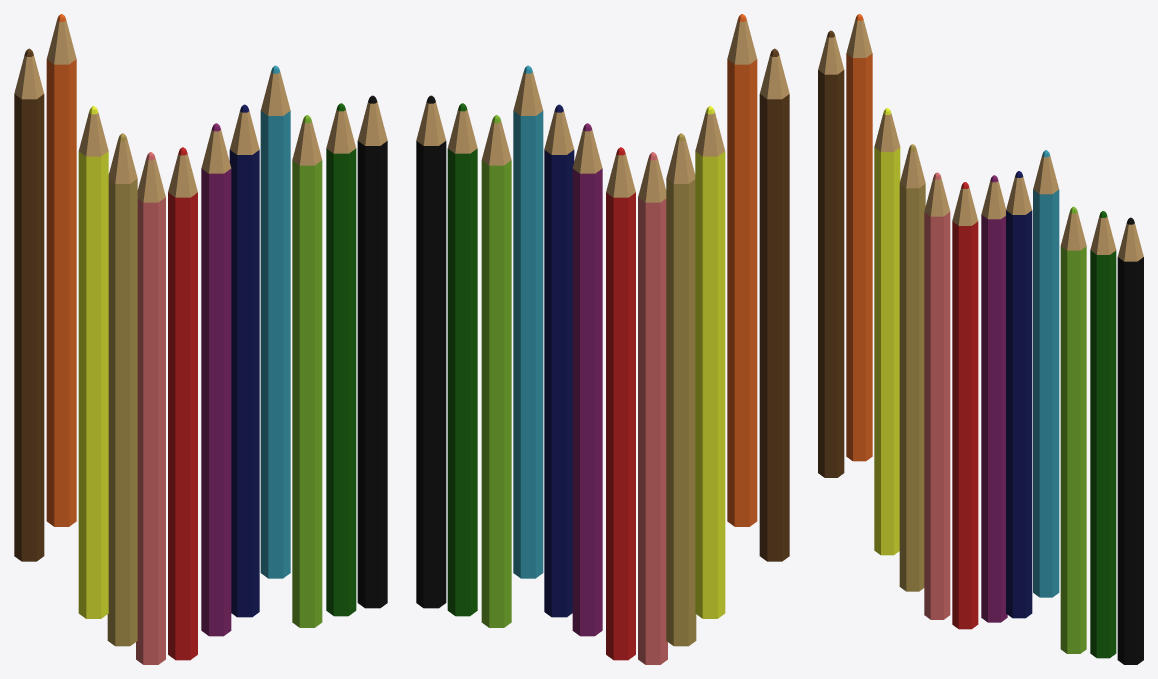
3 renders of one model, left to right at view 1: azimuth 30°, elevation 25°; view 2: azimuth 150°, elevation 25°; view 3: azimuth 330°, elevation 25°, orthographic. The views are drawn at different scales.
Parts seen in each view (by area): view 1: pencils; view 2: pencils; view 3: pencils.
Boxes of the visible parts, box(x1,y1,x2,y2) form: pencils: box(14, 14, 387, 664); pencils: box(416, 14, 789, 664); pencils: box(818, 14, 1143, 664).
Size of the model in its own units: 54.94 by 96.14 by 3.9.
